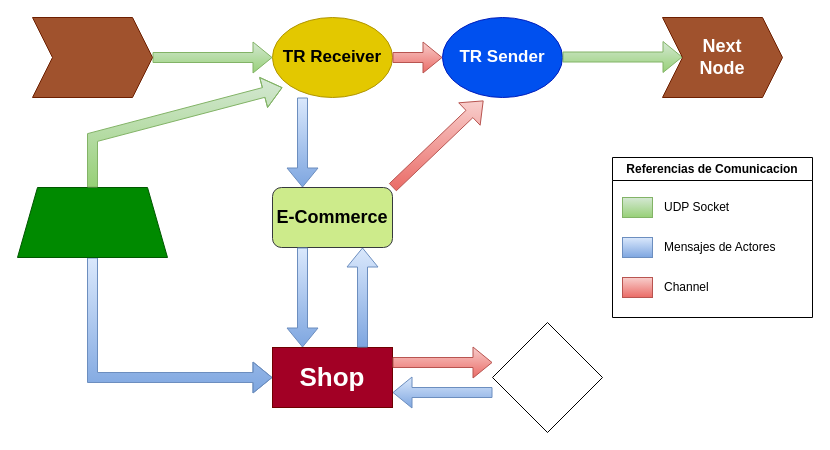
The diagram is 830 pixels wide and 450 high, and some of its shapes have lost their labels. The centre of each missing label's shape, as x and y in pixels:
"Delivery" belongs at pixel 547 377.
"Previous Node" belongs at pixel 92 57.
"Simulator" belongs at pixel 92 222.
